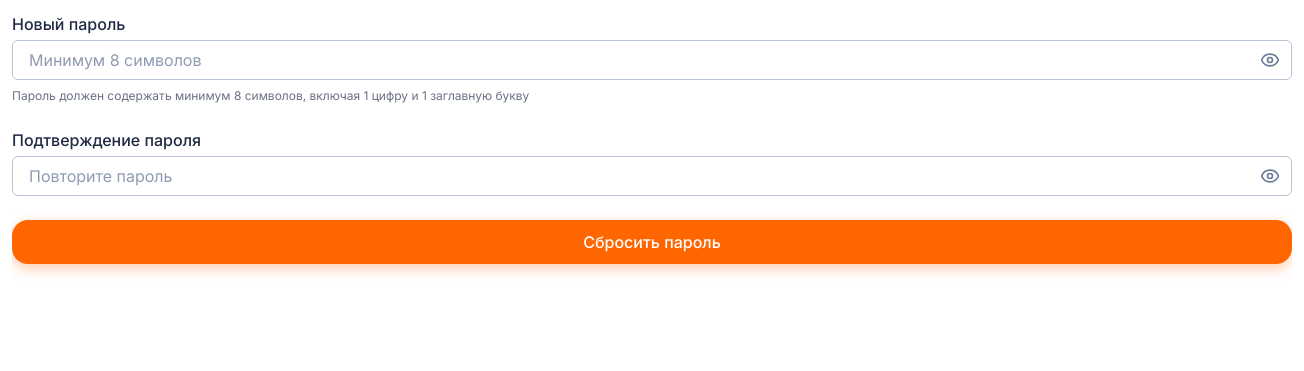
it: PasswordResetConfirmForm › Error Handling › should show validation error for weak password from backend (400)
Type "ValidPass1" into the password field labelled "Новый пароль" at (652, 60), box [12,40,1292,80]
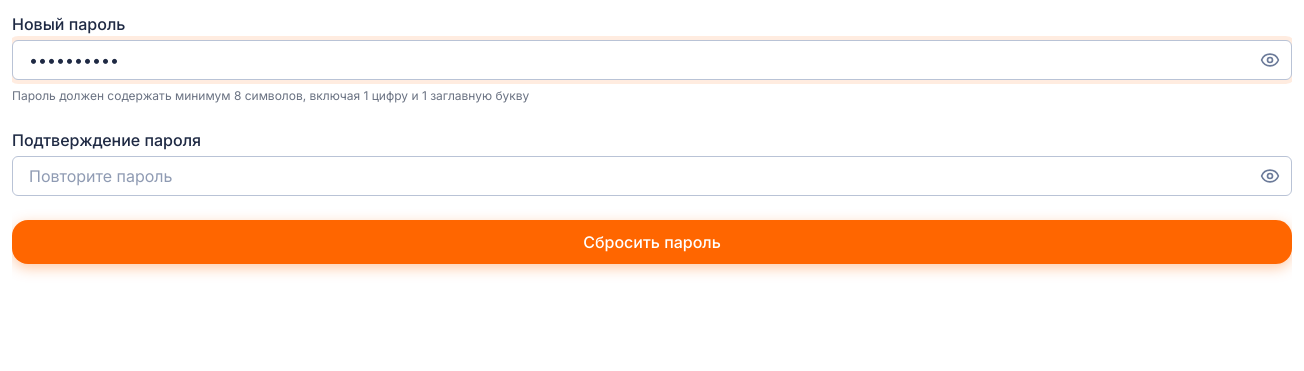
Type "ValidPass1" into the password field labelled "Подтверждение пароля" at (652, 176), box [12,156,1292,196]
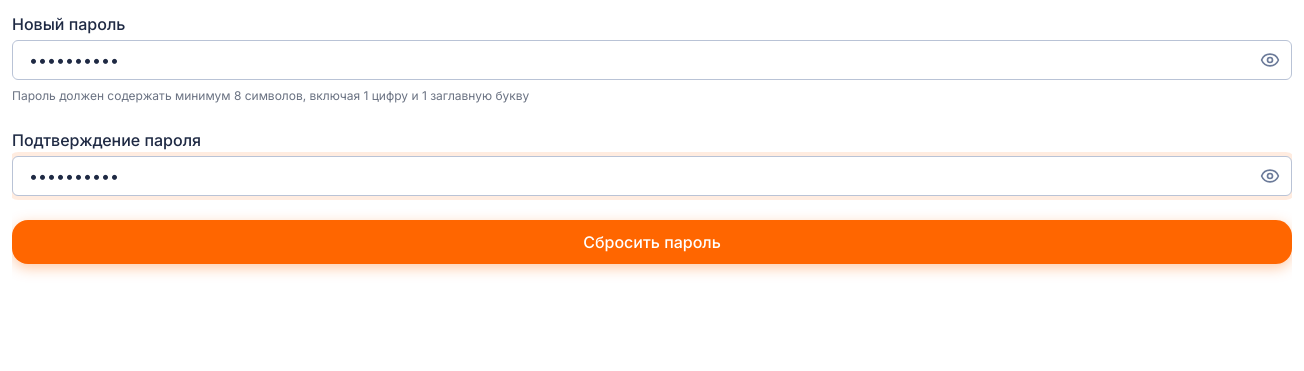
Click the button "Сбросить пароль" at (652, 242), box [12,220,1292,264]
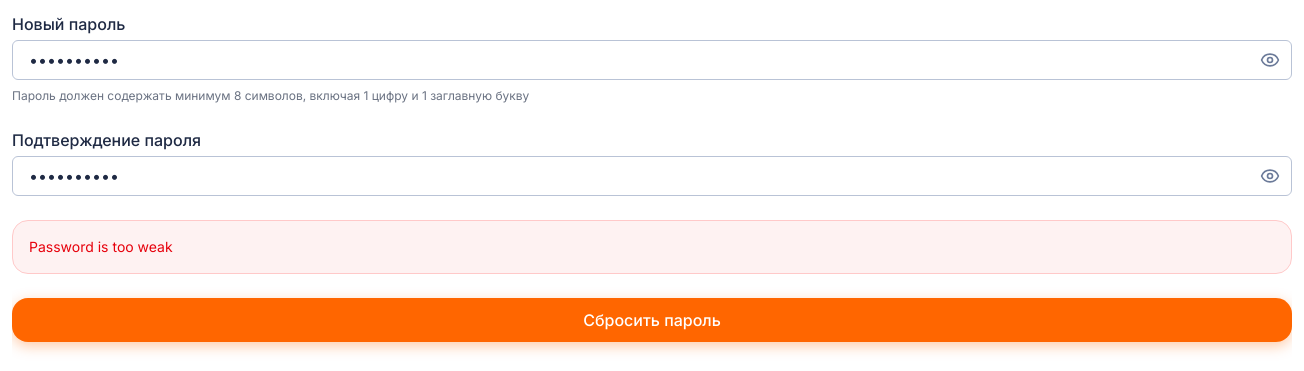
Expected: the text "Password is too weak" is shown, [12,220,1292,274]
